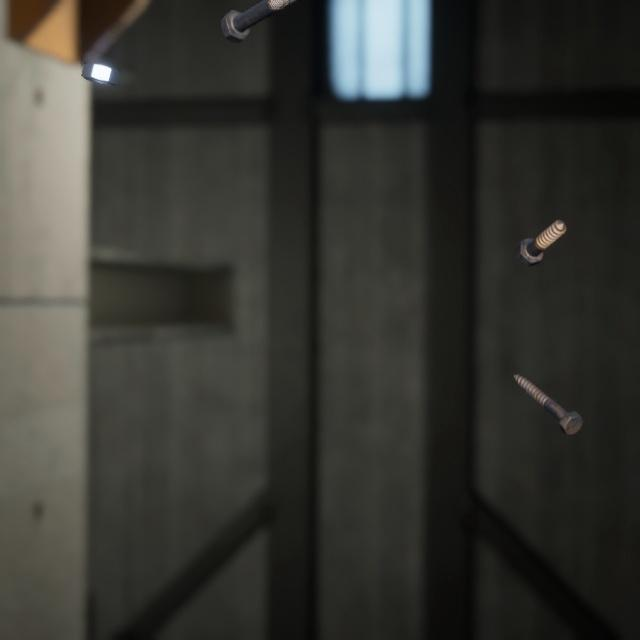bolt: (509, 351, 587, 419), (511, 199, 570, 255), (215, 0, 287, 39)
nut: (77, 47, 124, 79)
